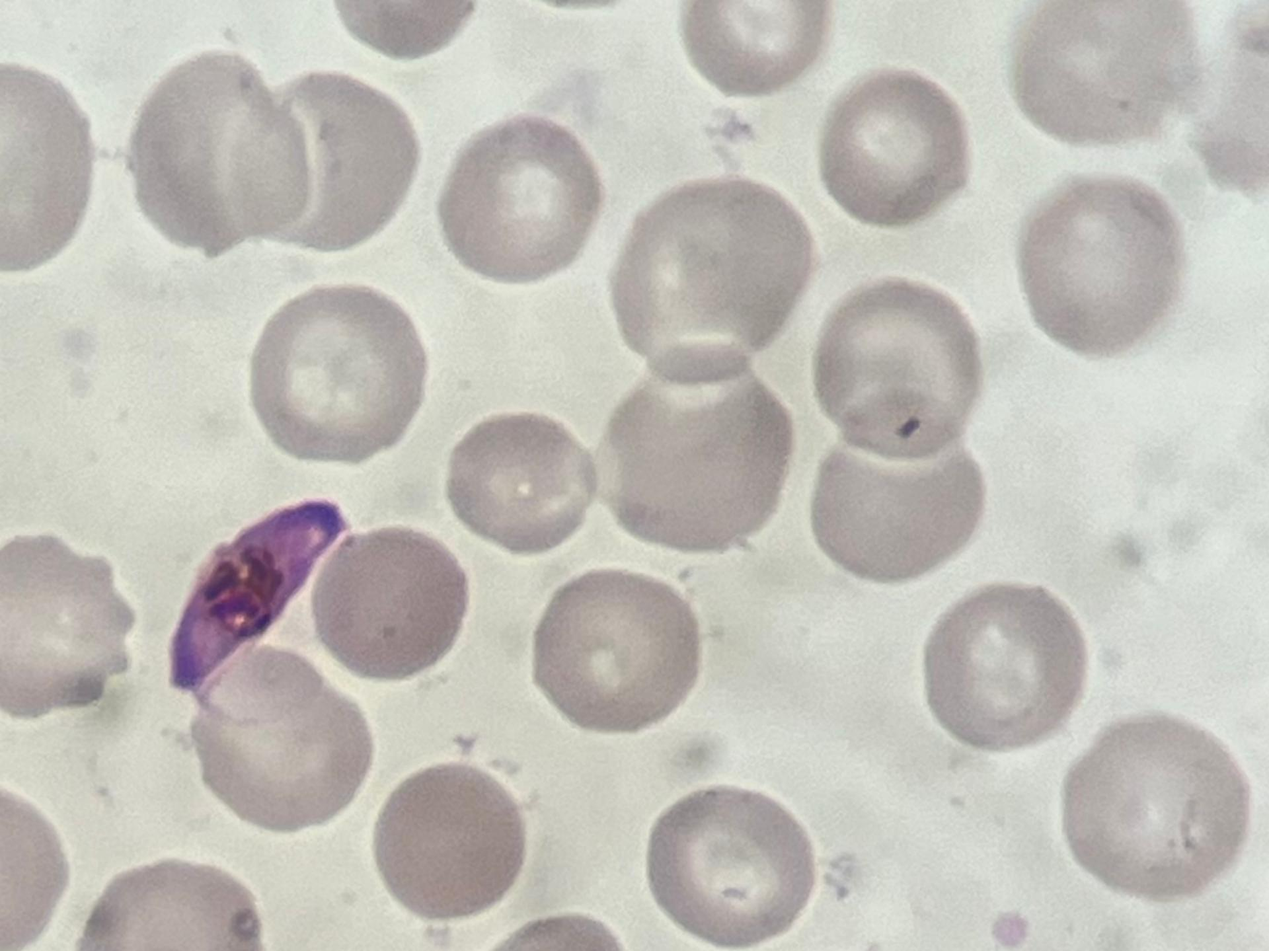Infected: (165, 498, 356, 718)
Uninfected: (588, 341, 796, 550), (611, 177, 812, 384), (127, 53, 315, 255), (221, 66, 420, 250), (1064, 711, 1247, 898), (810, 390, 982, 583), (190, 651, 373, 830), (248, 285, 426, 464), (813, 276, 985, 461), (1018, 172, 1187, 358), (645, 785, 821, 951), (529, 569, 701, 738), (1011, 0, 1195, 150), (436, 116, 600, 284), (922, 584, 1087, 748), (816, 65, 970, 230), (0, 536, 137, 719), (373, 762, 527, 917), (312, 529, 467, 681), (446, 412, 597, 559), (0, 66, 94, 274), (86, 858, 264, 951), (679, 0, 825, 101)
